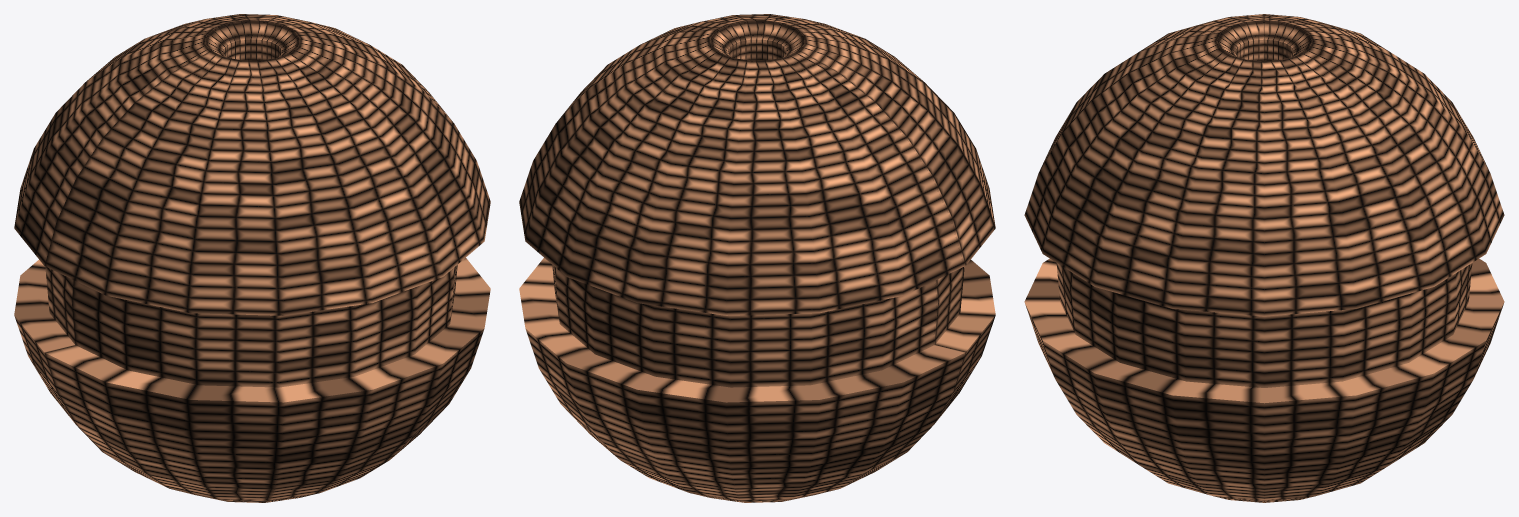
The model's file is wickerSphere2.glb.
The picture shows the model from 3 angles, left to right: view 1: azimuth 30°, elevation 25°; view 2: azimuth 150°, elevation 25°; view 3: azimuth 270°, elevation 25°; orthographic projection.
Parts seen in each view (by area): view 1: Sphere; view 2: Sphere; view 3: Sphere.
Boxes of the visible parts, x1,y1,x2,y2 form: Sphere: (14, 14, 490, 502); Sphere: (519, 14, 995, 502); Sphere: (1024, 14, 1504, 502).
Size of the model in its own units: 1.96 by 1.96 by 1.96.
1 material, 1 textured.
